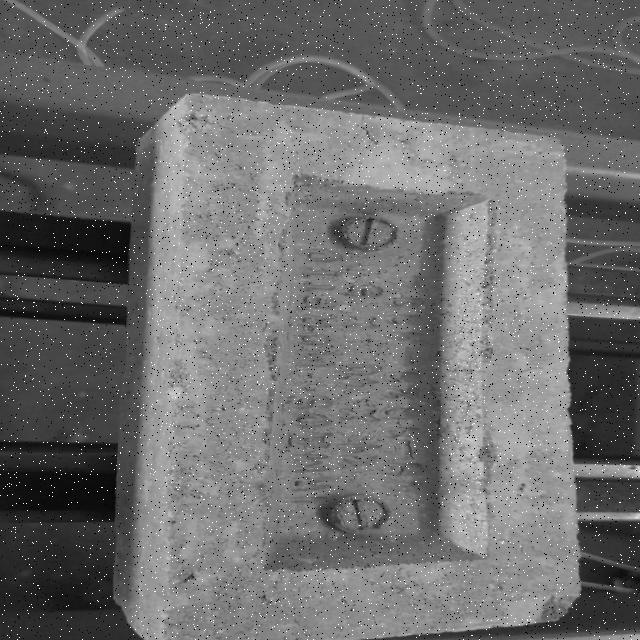bricks: (113, 93, 577, 640)
